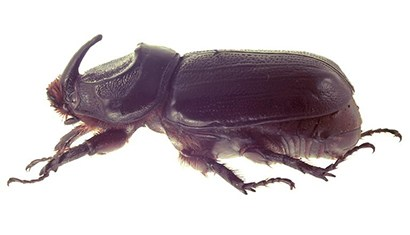coconut rhinoceros beetle: (23, 17, 390, 196)
